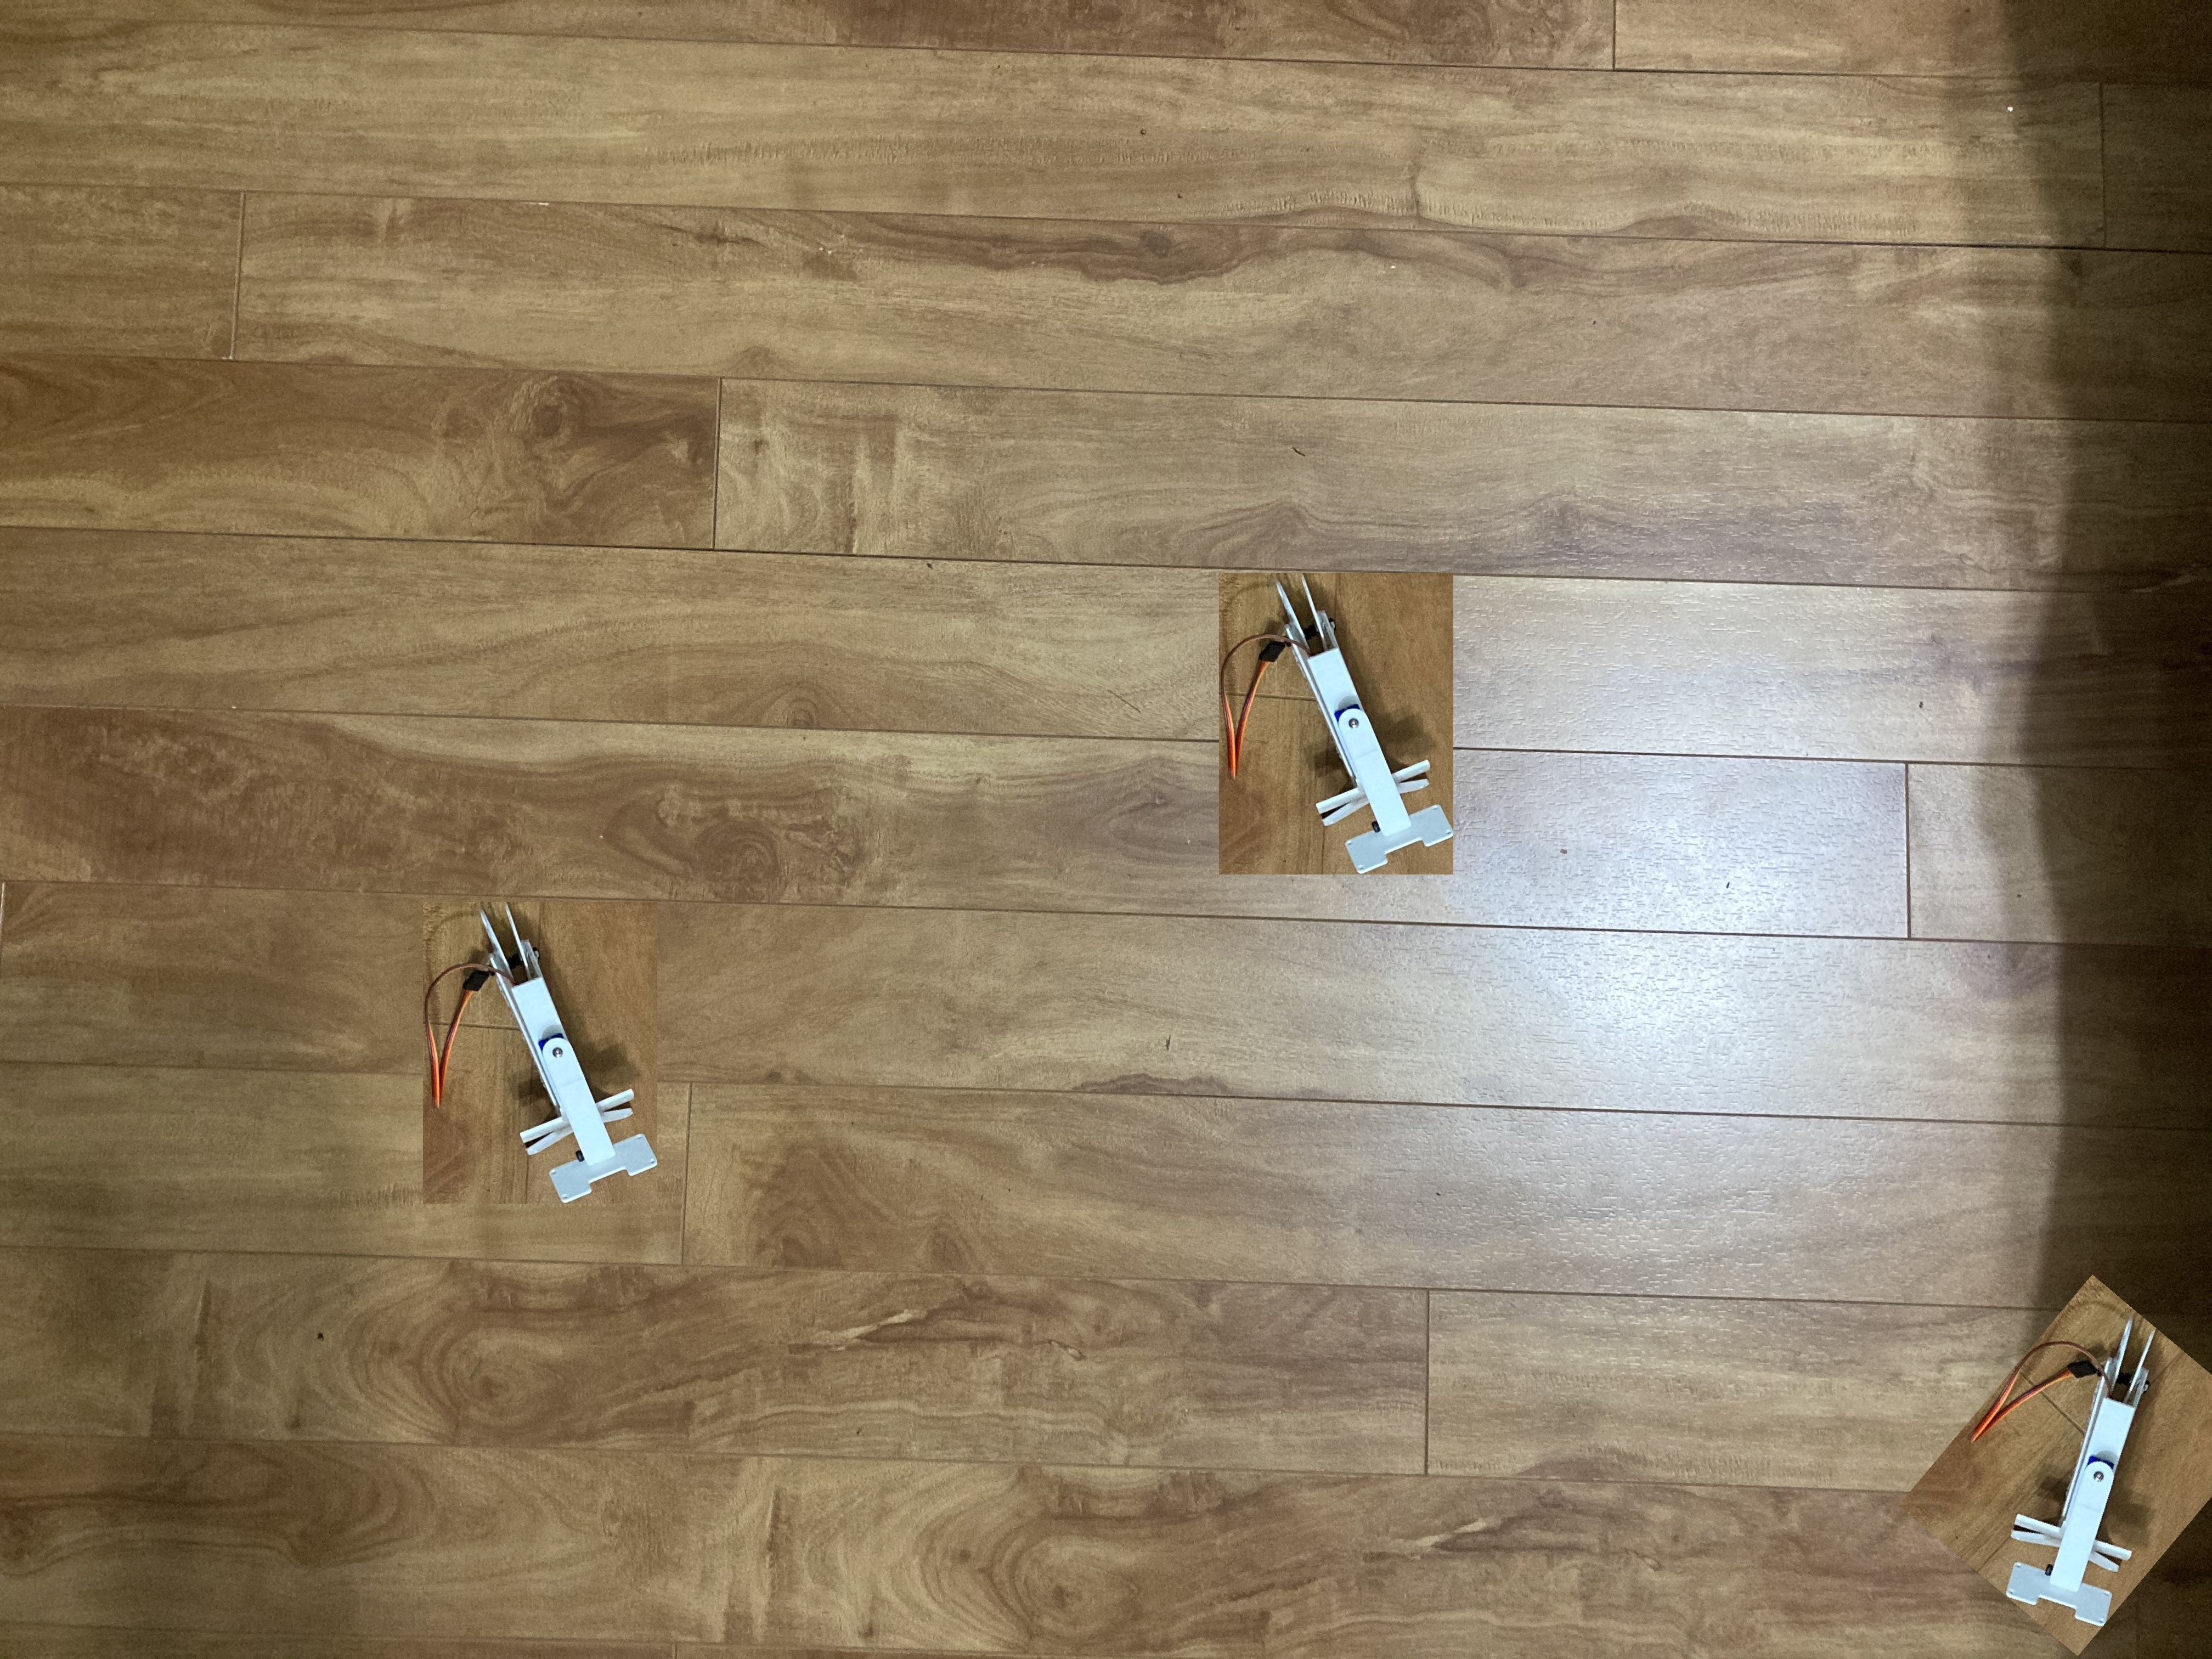robot: (1980, 1251, 2188, 1650), (1252, 568, 1472, 897), (448, 894, 681, 1197)
